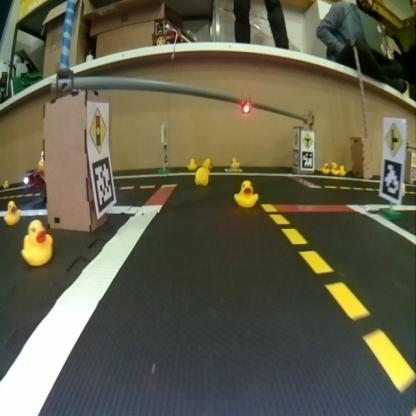Duckie: (21, 219, 50, 261), (234, 180, 258, 207), (5, 201, 20, 225), (194, 167, 209, 185), (186, 158, 196, 170), (230, 156, 239, 167), (330, 165, 339, 174), (202, 158, 212, 166), (322, 162, 329, 173)
Duckiebot: (24, 166, 44, 189)
Intersection sign: (383, 121, 403, 156), (300, 130, 314, 149)
QR code: (90, 157, 115, 211), (378, 161, 402, 200), (301, 151, 314, 170), (292, 148, 298, 168)
Signal sign: (88, 105, 108, 153), (293, 131, 299, 146)
Traffic light: (241, 94, 250, 112)
